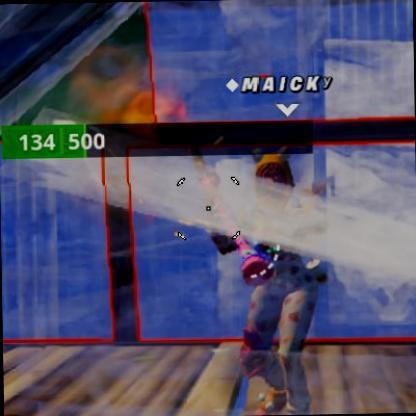person: (224, 152, 328, 388)
